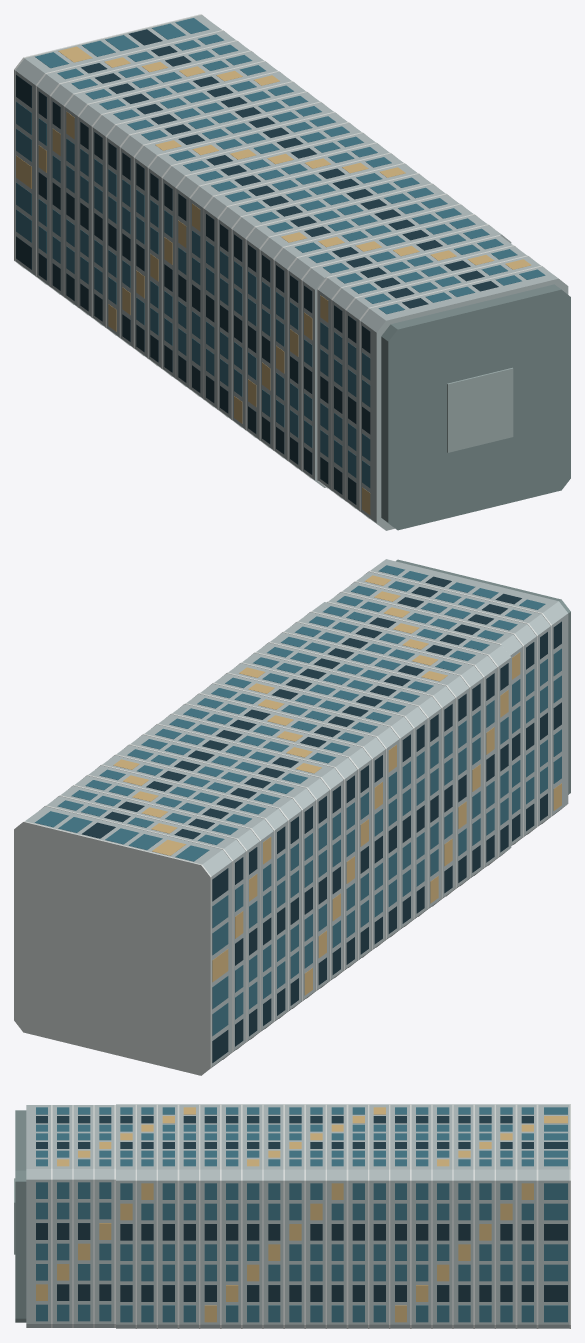
File: tower.obj
3 renders of one model, top to bottom at view 1: azimuth 30°, elevation 25°; view 2: azimuth 150°, elevation 25°; view 3: azimuth 270°, elevation 25°, orthographic. The views are drawn at different scales.
Parts seen in each view (by area): view 1: Crown, Envelope_25, Roof_plant, Envelope_1, Envelope_21, Envelope_6, Envelope_9, Envelope_12, Envelope_10, Envelope_5, Envelope_7, Envelope_8 (+40 smaller); view 2: Floor_1, Envelope_25, Envelope_1, Envelope_17, Envelope_21, Envelope_18, Envelope_19, Envelope_20, Envelope_16, Envelope_15, Envelope_14, Envelope_6 (+32 smaller); view 3: Envelope_25, Envelope_1, Envelope_5, Envelope_14, Envelope_22, Envelope_6, Envelope_7, Envelope_15, Envelope_23, Envelope_24, Envelope_3, Envelope_4 (+46 smaller).
Boxes of the visible parts, x1,y1,x2,y2 form: Crown: (381,284,570,530); Envelope_25: (360,266,568,530); Roof_plant: (447,367,513,452); Envelope_1: (15,15,221,277); Envelope_21: (302,225,511,487); Envelope_6: (92,72,291,328); Envelope_9: (134,102,333,359); Envelope_12: (176,133,375,389); Envelope_10: (148,112,347,369); Envelope_5: (78,61,277,318); Envelope_7: (106,82,305,337); Envelope_8: (120,92,319,348); Floor_1: (14,821,211,1075); Envelope_25: (370,559,568,815); Envelope_1: (25,806,231,1067); Envelope_17: (256,643,455,899); Envelope_21: (312,602,511,858); Envelope_18: (270,632,469,888); Envelope_19: (284,622,483,877); Envelope_20: (298,612,497,868); Envelope_16: (242,653,441,909); Envelope_15: (228,663,427,918); Envelope_14: (214,673,413,929); Envelope_6: (102,755,301,1011); Envelope_25: (26,1105,50,1327); Envelope_1: (538,1104,569,1328); Envelope_5: (453,1104,473,1328); Envelope_14: (263,1104,283,1328); Envelope_22: (94,1105,114,1327); Envelope_6: (432,1104,452,1328); Envelope_7: (411,1104,431,1328); Envelope_15: (242,1104,262,1328); Envelope_23: (73,1105,93,1327); Envelope_24: (52,1105,72,1327); Envelope_3: (496,1104,515,1328); Envelope_4: (475,1104,494,1328).
Bounding box in the file's own units: 25.2 × 25.8 × 81.76.
